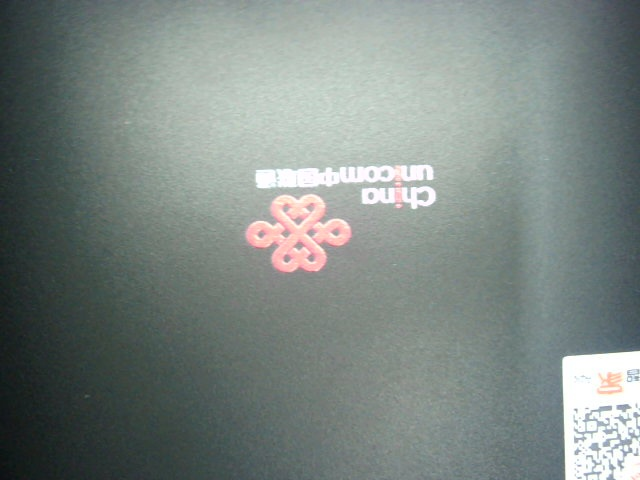AC_ChinaUnicom: (226, 161, 444, 275)
